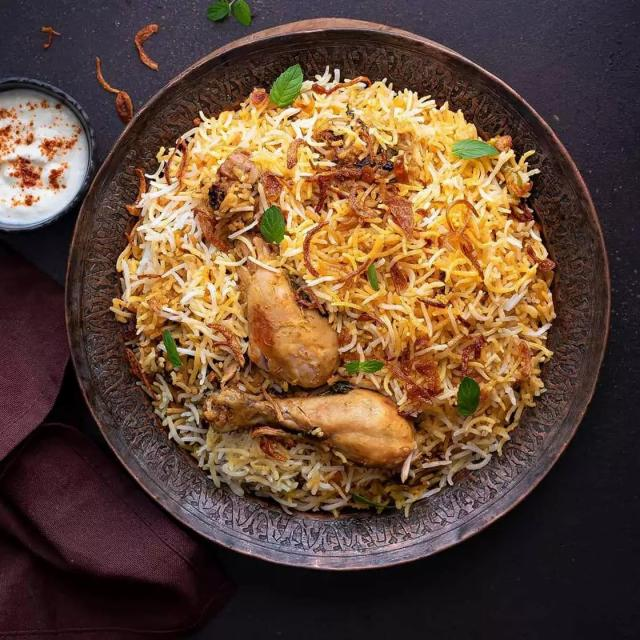Biryani: (115, 62, 560, 514)
